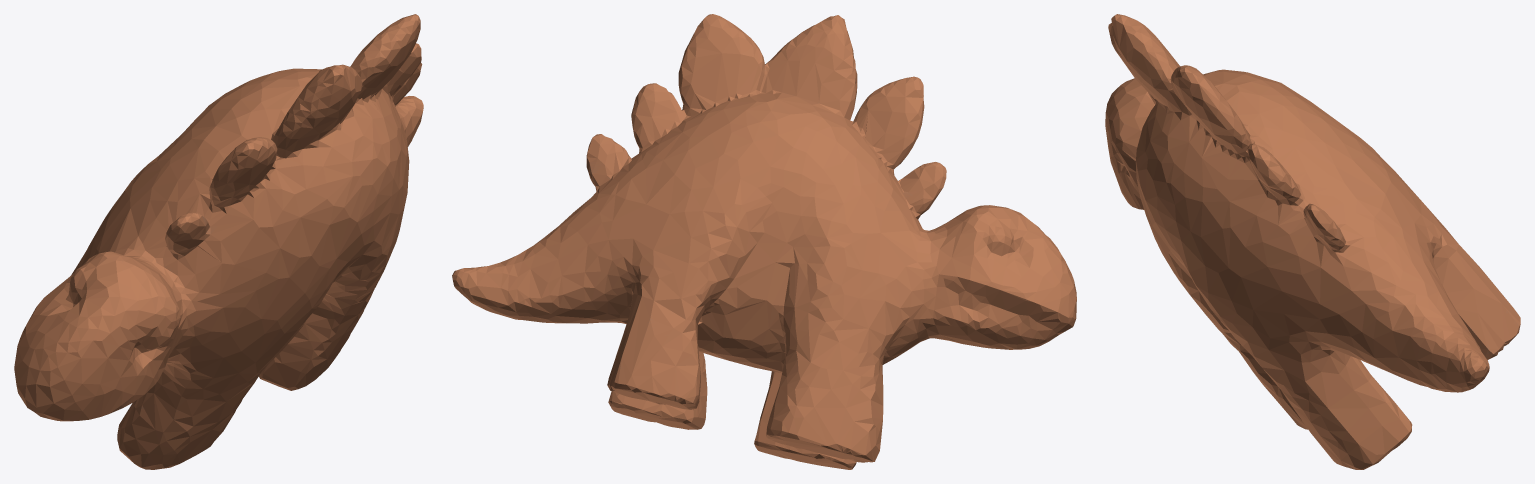
Rendered from Stegosaurus.glb.
The picture shows the model from 3 angles, left to right: view 1: azimuth 30°, elevation 25°; view 2: azimuth 150°, elevation 25°; view 3: azimuth 270°, elevation 25°; orthographic projection. The views are drawn at different scales.
Parts seen in each view (by area): view 1: node_id3; view 2: node_id3; view 3: node_id3.
Part boxes in pixels (x1,y1,x2,y2): node_id3: (14,14,423,469); node_id3: (452,14,1076,469); node_id3: (1105,14,1520,469).
Bounding box in the file's own units: 0.6482 × 0.4886 × 0.4243.
Materials: 1 (1 with a texture image).
